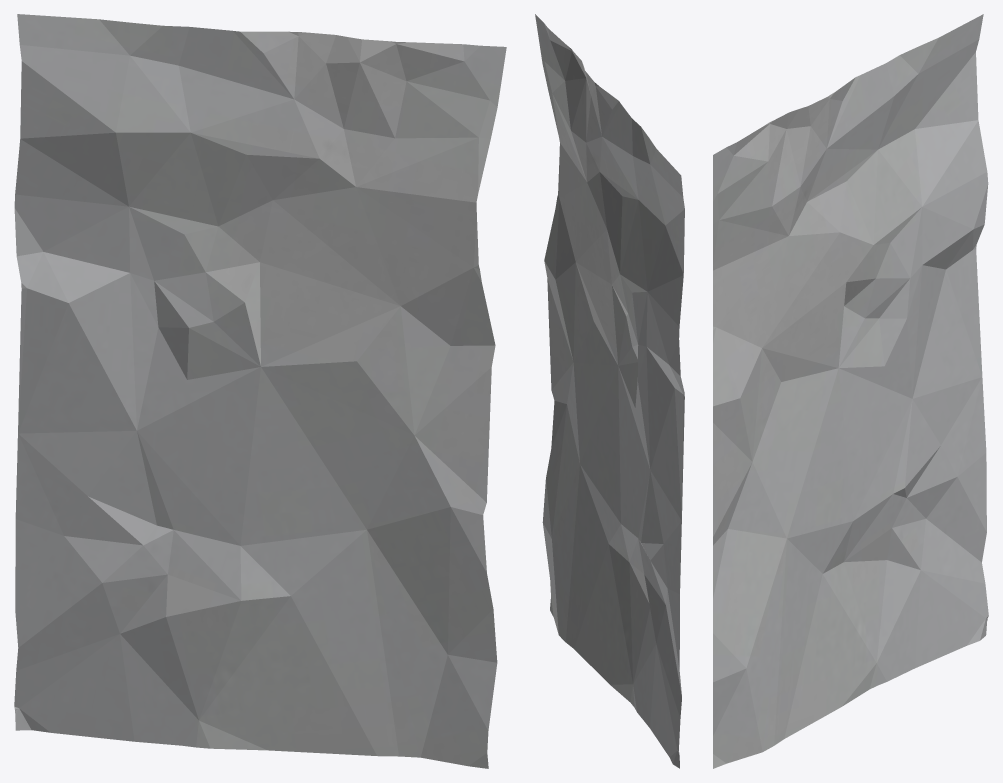
3 views of the same model, side by side, from view 1: azimuth 30°, elevation 25°; view 2: azimuth 150°, elevation 25°; view 3: azimuth 270°, elevation 25° (orthographic). The views are drawn at different scales.
Bounding box in the file's own units: 0.4071 × 0.8373 × 0.3366.
2 materials, 2 textured.
